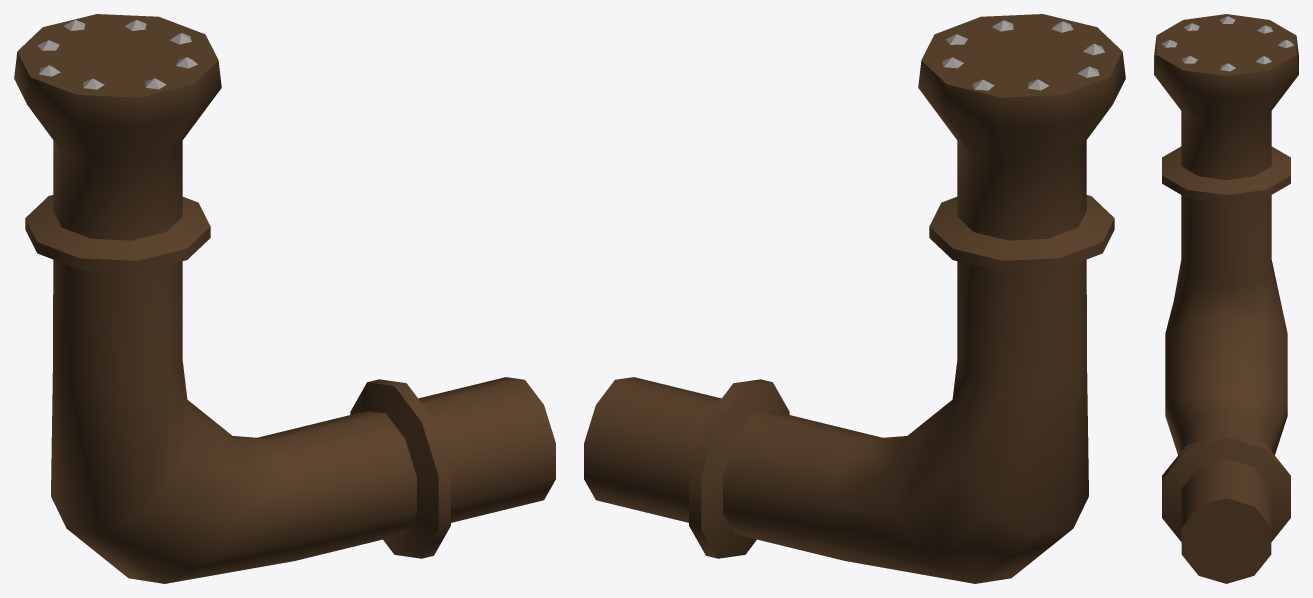
The model's file is Pipe Curve.fbx.
The picture shows the model from 3 angles, left to right: view 1: azimuth 30°, elevation 25°; view 2: azimuth 150°, elevation 25°; view 3: azimuth 270°, elevation 25°; orthographic projection. The views are drawn at different scales.
Visible parts, largest first — view 1: polySurface14; view 2: polySurface14; view 3: polySurface14.
Boxes of the visible parts, left/top/right/bottom form: polySurface14: left=14, top=14, right=555, bottom=583; polySurface14: left=584, top=14, right=1125, bottom=583; polySurface14: left=1154, top=14, right=1298, bottom=583.
Bounding box in the file's own units: 0.7991 × 0.8797 × 0.2763.
